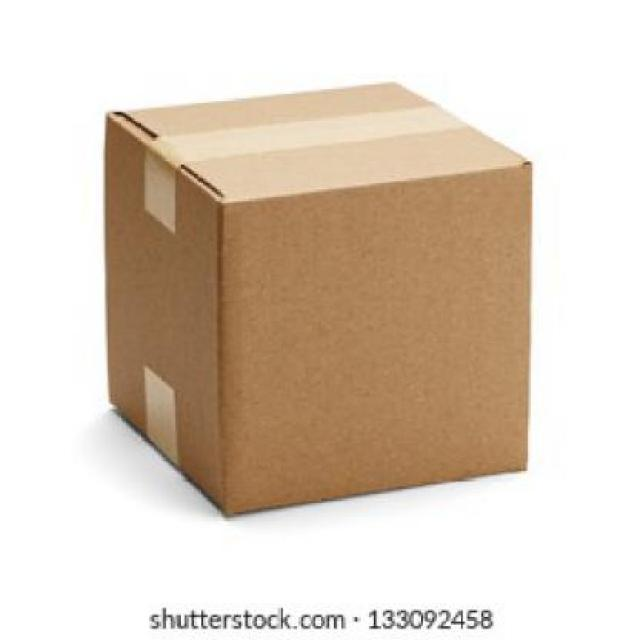box: (96, 77, 526, 514)
